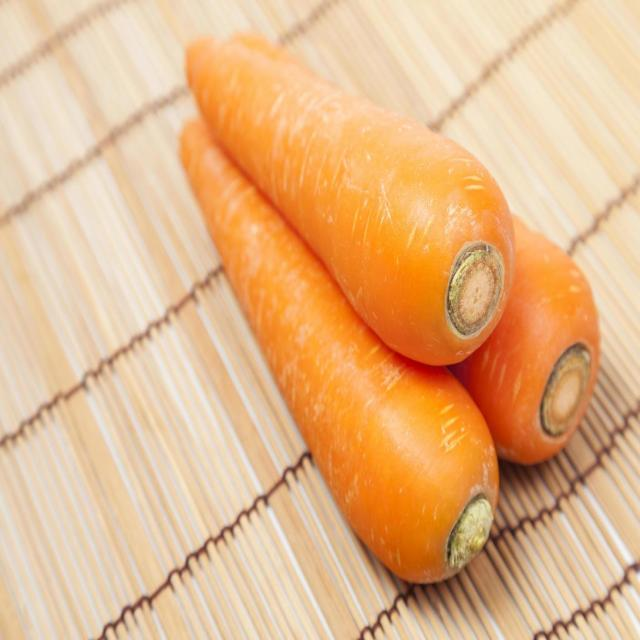carrot: (180, 118, 500, 584), (186, 33, 515, 365)
